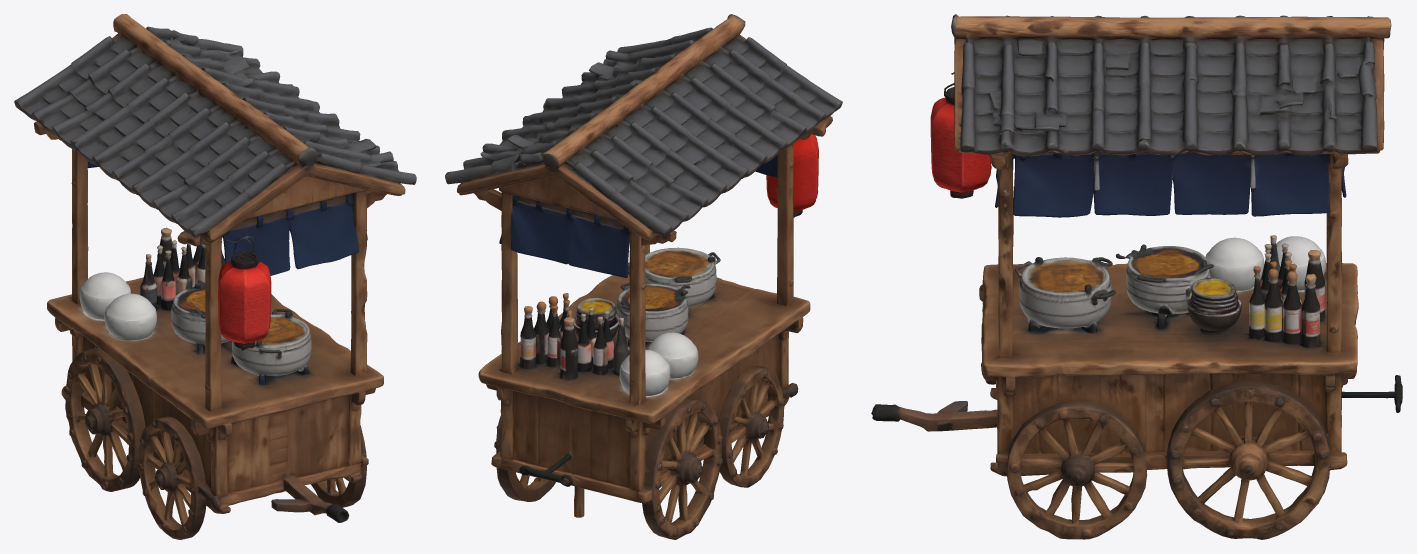
Rendered from tripo.glb.
The picture shows the model from 3 angles, left to right: view 1: azimuth 30°, elevation 25°; view 2: azimuth 150°, elevation 25°; view 3: azimuth 270°, elevation 25°; orthographic projection. The views are drawn at different scales.
Parts seen in each view (by area): view 1: tripo_node_735fe06f-0328-48ed-8339-77fb405125b8; view 2: tripo_node_735fe06f-0328-48ed-8339-77fb405125b8; view 3: tripo_node_735fe06f-0328-48ed-8339-77fb405125b8.
Part boxes in pixels (x1,y1,x2,y2): tripo_node_735fe06f-0328-48ed-8339-77fb405125b8: [14, 14, 416, 539]; tripo_node_735fe06f-0328-48ed-8339-77fb405125b8: [445, 14, 842, 539]; tripo_node_735fe06f-0328-48ed-8339-77fb405125b8: [871, 14, 1402, 539].
Bounding box in the file's own units: 0.568 × 0.9962 × 1.
Materials: 1 (1 with a texture image).
